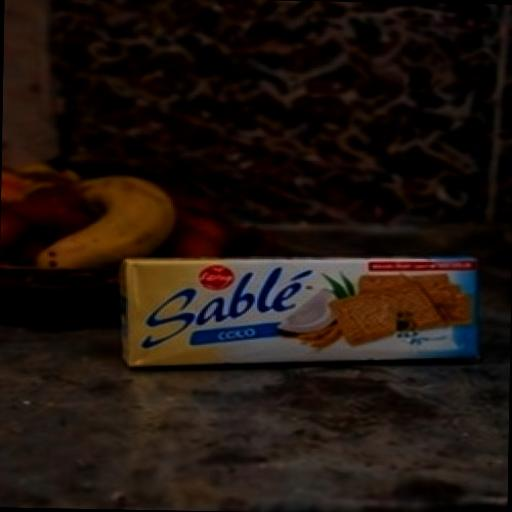sable: (54, 205, 512, 429)
